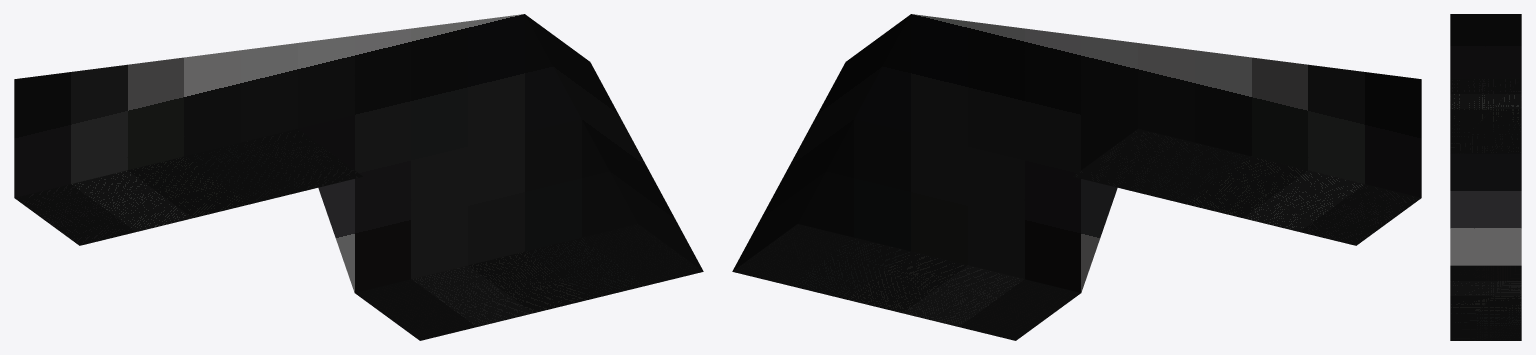
The model's file is npcs_10.glb.
3 renders of one model, left to right at view 1: azimuth 30°, elevation 25°; view 2: azimuth 150°, elevation 25°; view 3: azimuth 270°, elevation 25°, orthographic. The views are drawn at different scales.
Parts seen in each view (by area): view 1: world; view 2: world; view 3: world.
Part boxes in pixels (x1,y1,x2,y2): world: (14,14,703,340); world: (732,14,1421,340); world: (1450,14,1521,340).
Size of the model in its own units: 0.11 by 0.05 by 0.02.
Materials: 1 (1 with a texture image).
